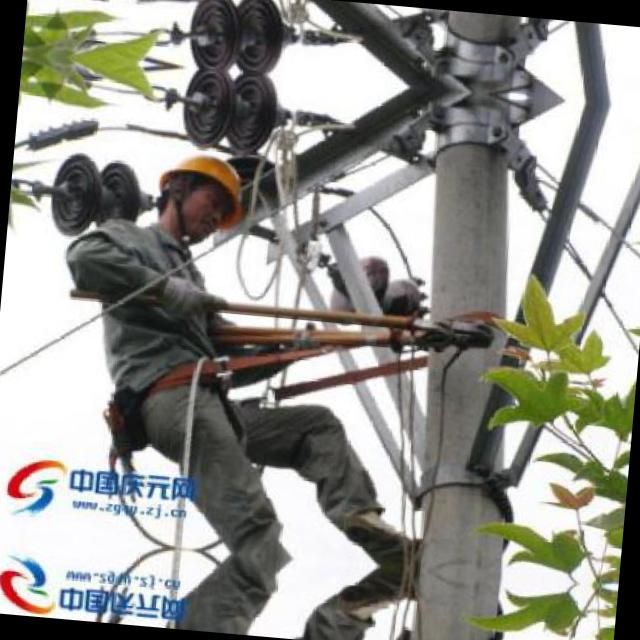helmet: (146, 135, 254, 243)
